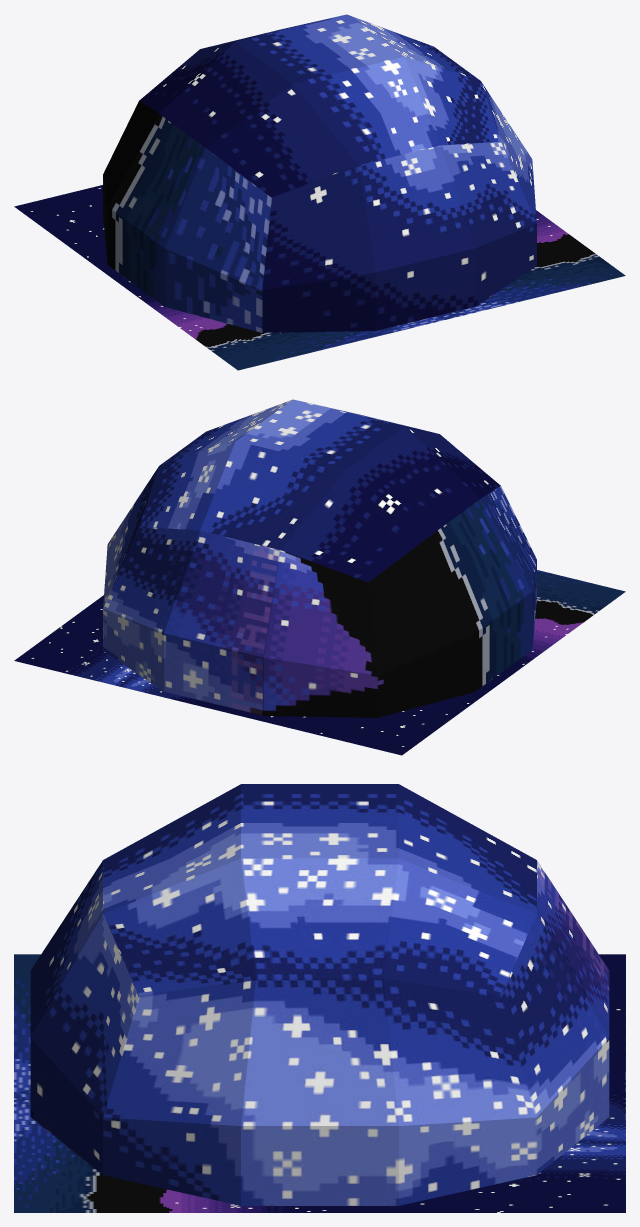
File: testgalaxy.glb
The picture shows the model from 3 angles, top to bottom: view 1: azimuth 30°, elevation 25°; view 2: azimuth 150°, elevation 25°; view 3: azimuth 270°, elevation 25°; orthographic projection. The views are drawn at different scales.
Parts seen in each view (by area): view 1: Cube, Plane; view 2: Cube, Plane; view 3: Cube, Plane.
Boxes of the visible parts, x1,y1,x2,y2 form: Cube: (103,14,536,332); Plane: (14,185,625,370); Cube: (103,399,536,717); Plane: (14,570,625,755); Cube: (30,784,609,1205); Plane: (14,954,625,1212).
Size of the model in its own units: 114 by 53.89 by 114.
Materials: 2 (2 with a texture image).
